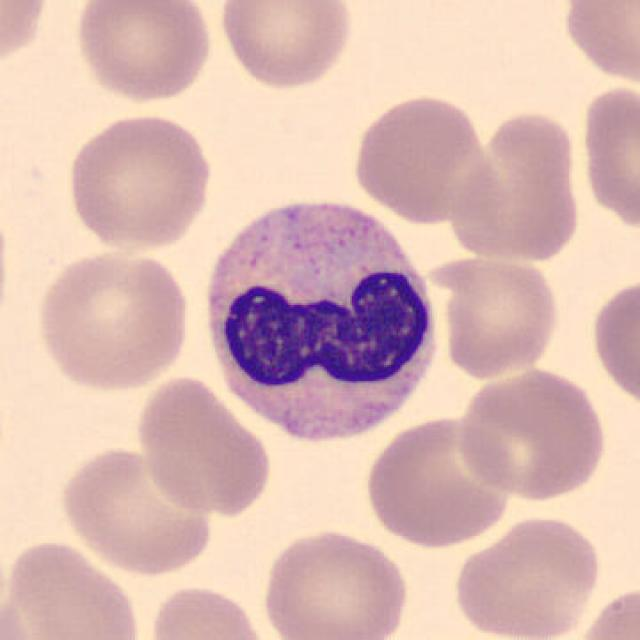Neutrophil: (194, 187, 448, 457)
RBC: (32, 245, 194, 395), (62, 109, 217, 254), (446, 106, 585, 264), (452, 365, 612, 502), (55, 442, 217, 576), (361, 413, 517, 550), (132, 371, 276, 518), (450, 511, 604, 640), (348, 90, 492, 226), (258, 525, 412, 640), (436, 252, 564, 381), (69, 0, 217, 106), (2, 536, 146, 640), (215, 0, 357, 93), (576, 80, 638, 234), (144, 582, 276, 640), (556, 0, 638, 90), (587, 272, 638, 416), (0, 0, 52, 78), (571, 580, 638, 640)
